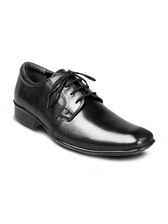shoes: (11, 65, 160, 158)
